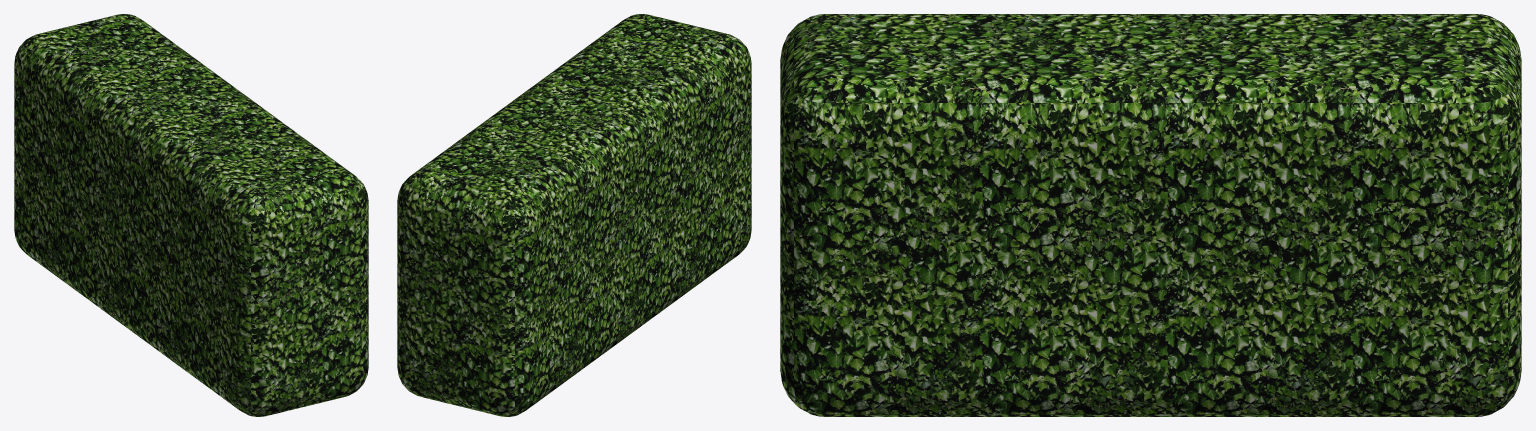
File: arbusto.FBX
The picture shows the model from 3 angles, left to right: view 1: azimuth 30°, elevation 25°; view 2: azimuth 150°, elevation 25°; view 3: azimuth 270°, elevation 25°; orthographic projection. The views are drawn at different scales.
Visible parts, largest first — view 1: ChamferBox02; view 2: ChamferBox02; view 3: ChamferBox02.
Part boxes in pixels (x1,y1,x2,y2): ChamferBox02: (14,14,368,416); ChamferBox02: (397,14,751,416); ChamferBox02: (780,14,1521,416).
Bounding box in the file's own units: 30 × 48 × 96.
1 material, 1 textured.
